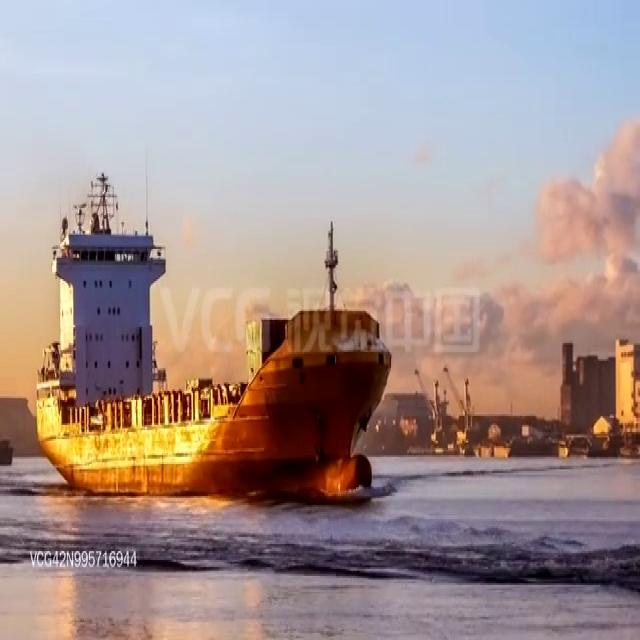cargoship: (30, 169, 385, 497)
